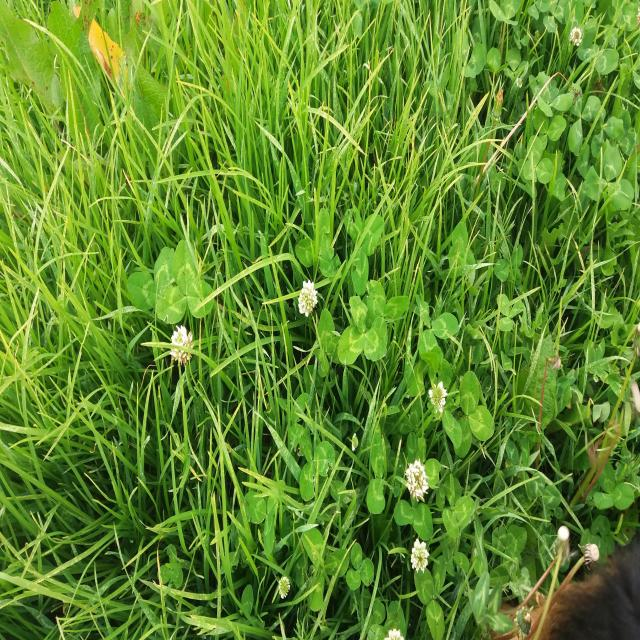Four Leaf Clover: (406, 345, 452, 397)
